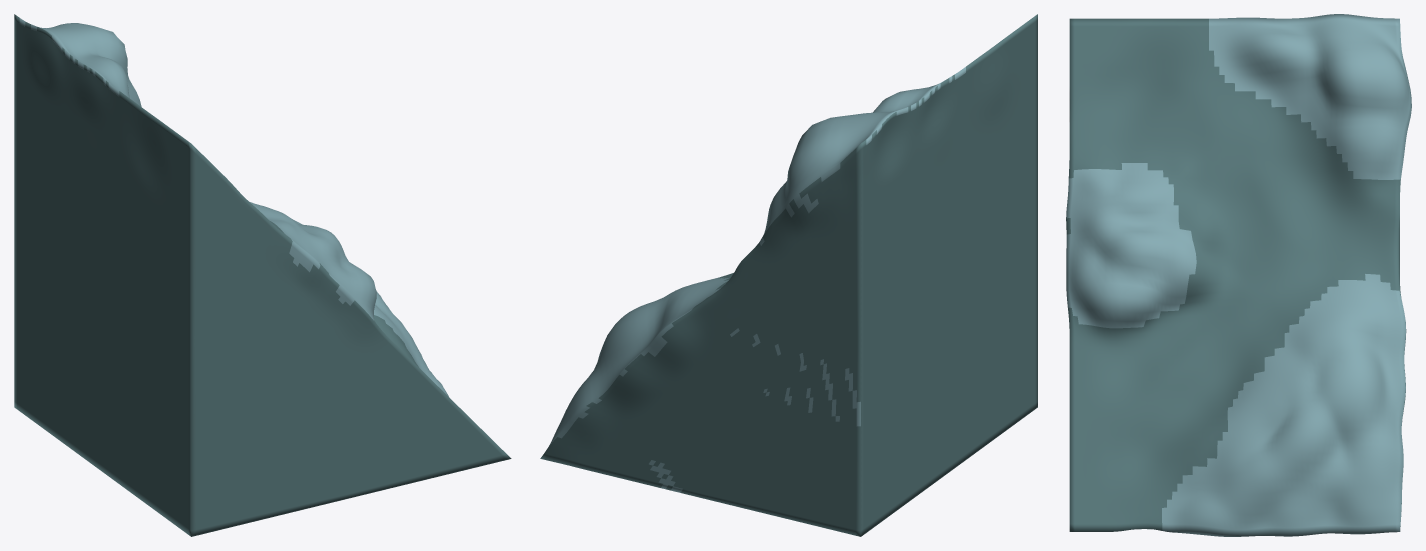
Rendered from slab.fbx.
3 renders of one model, left to right at view 1: azimuth 30°, elevation 25°; view 2: azimuth 150°, elevation 25°; view 3: azimuth 270°, elevation 25°, orthographic. The views are drawn at different scales.
Visible parts, largest first — view 1: slab1; view 2: slab1; view 3: slab1.
Boxes of the visible parts, <box> form: slab1: <box>14,14,511,536</box>; slab1: <box>540,14,1037,536</box>; slab1: <box>1066,14,1411,536</box>.
Size of the model in its own units: 7790 by 8974 by 7522.
